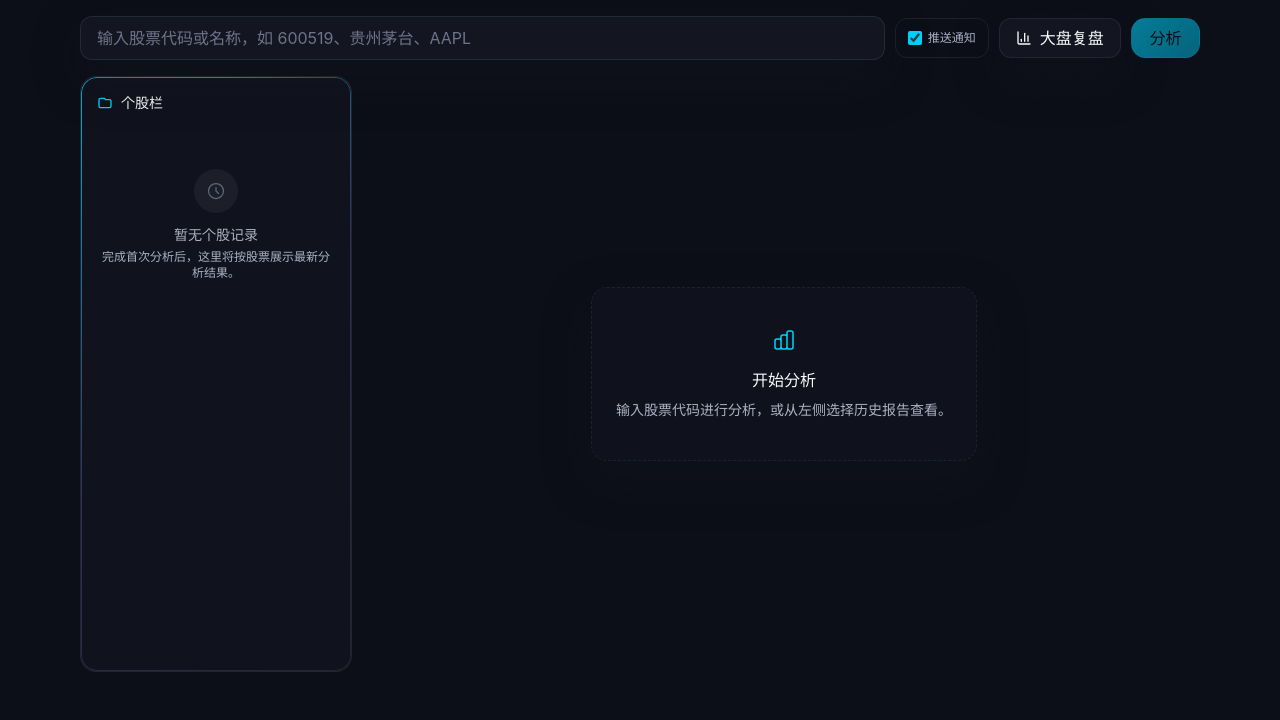
Test: HomePage › uses the payload language for live market review controls
Click the button "大盘复盘" at point(1060, 38), box [999,18,1121,58]
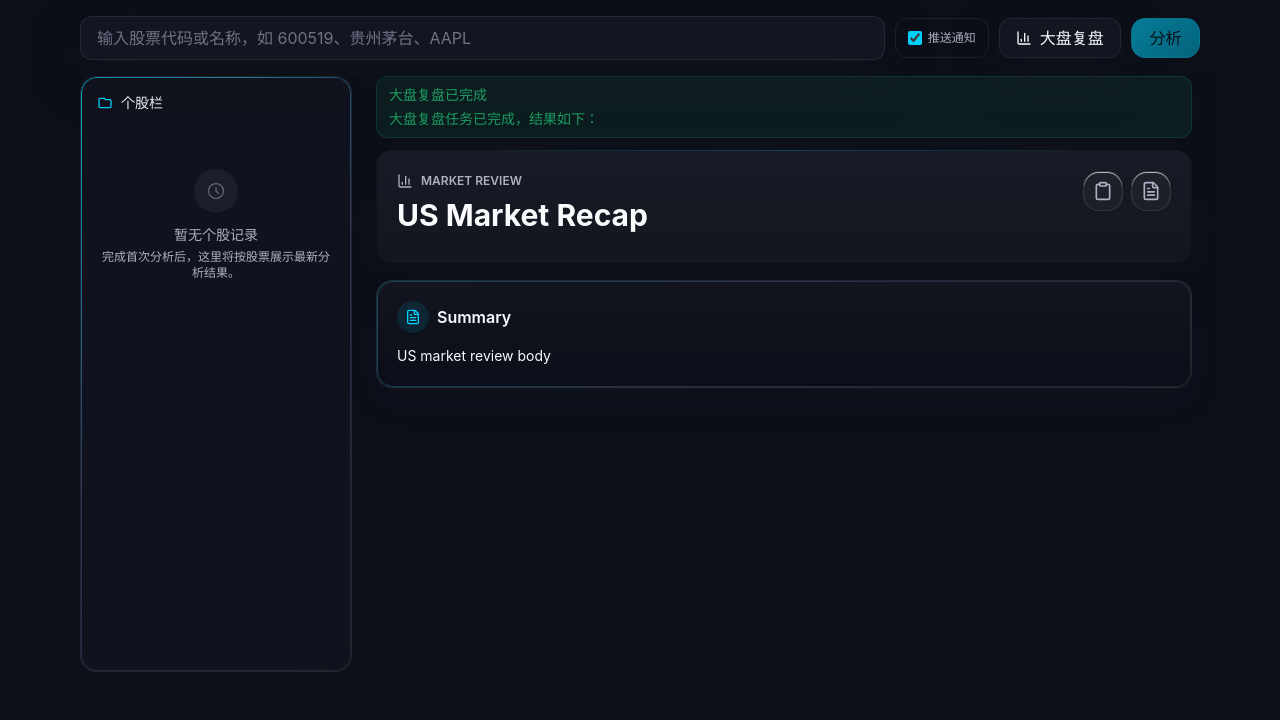
Expected: the button named "Copy Markdown Source" is shown, [1083,171,1123,211]
Expected: the button named "Copy Plain Text" is shown, [1131,171,1171,211]
